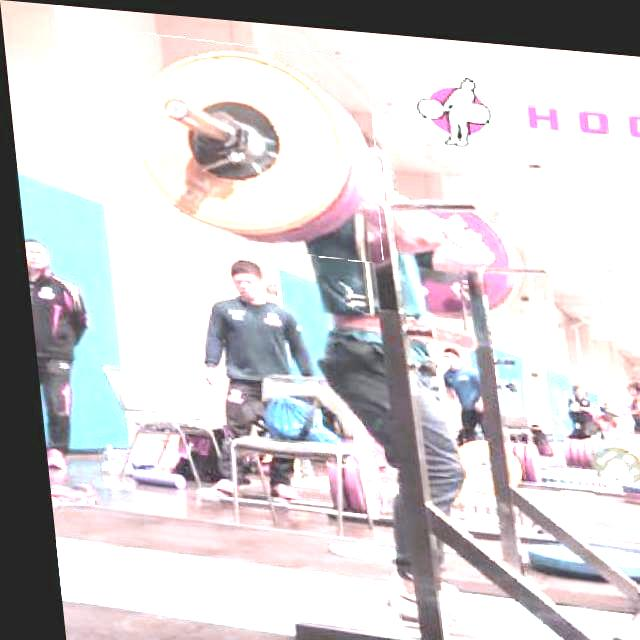barbell: (116, 30, 382, 256)
